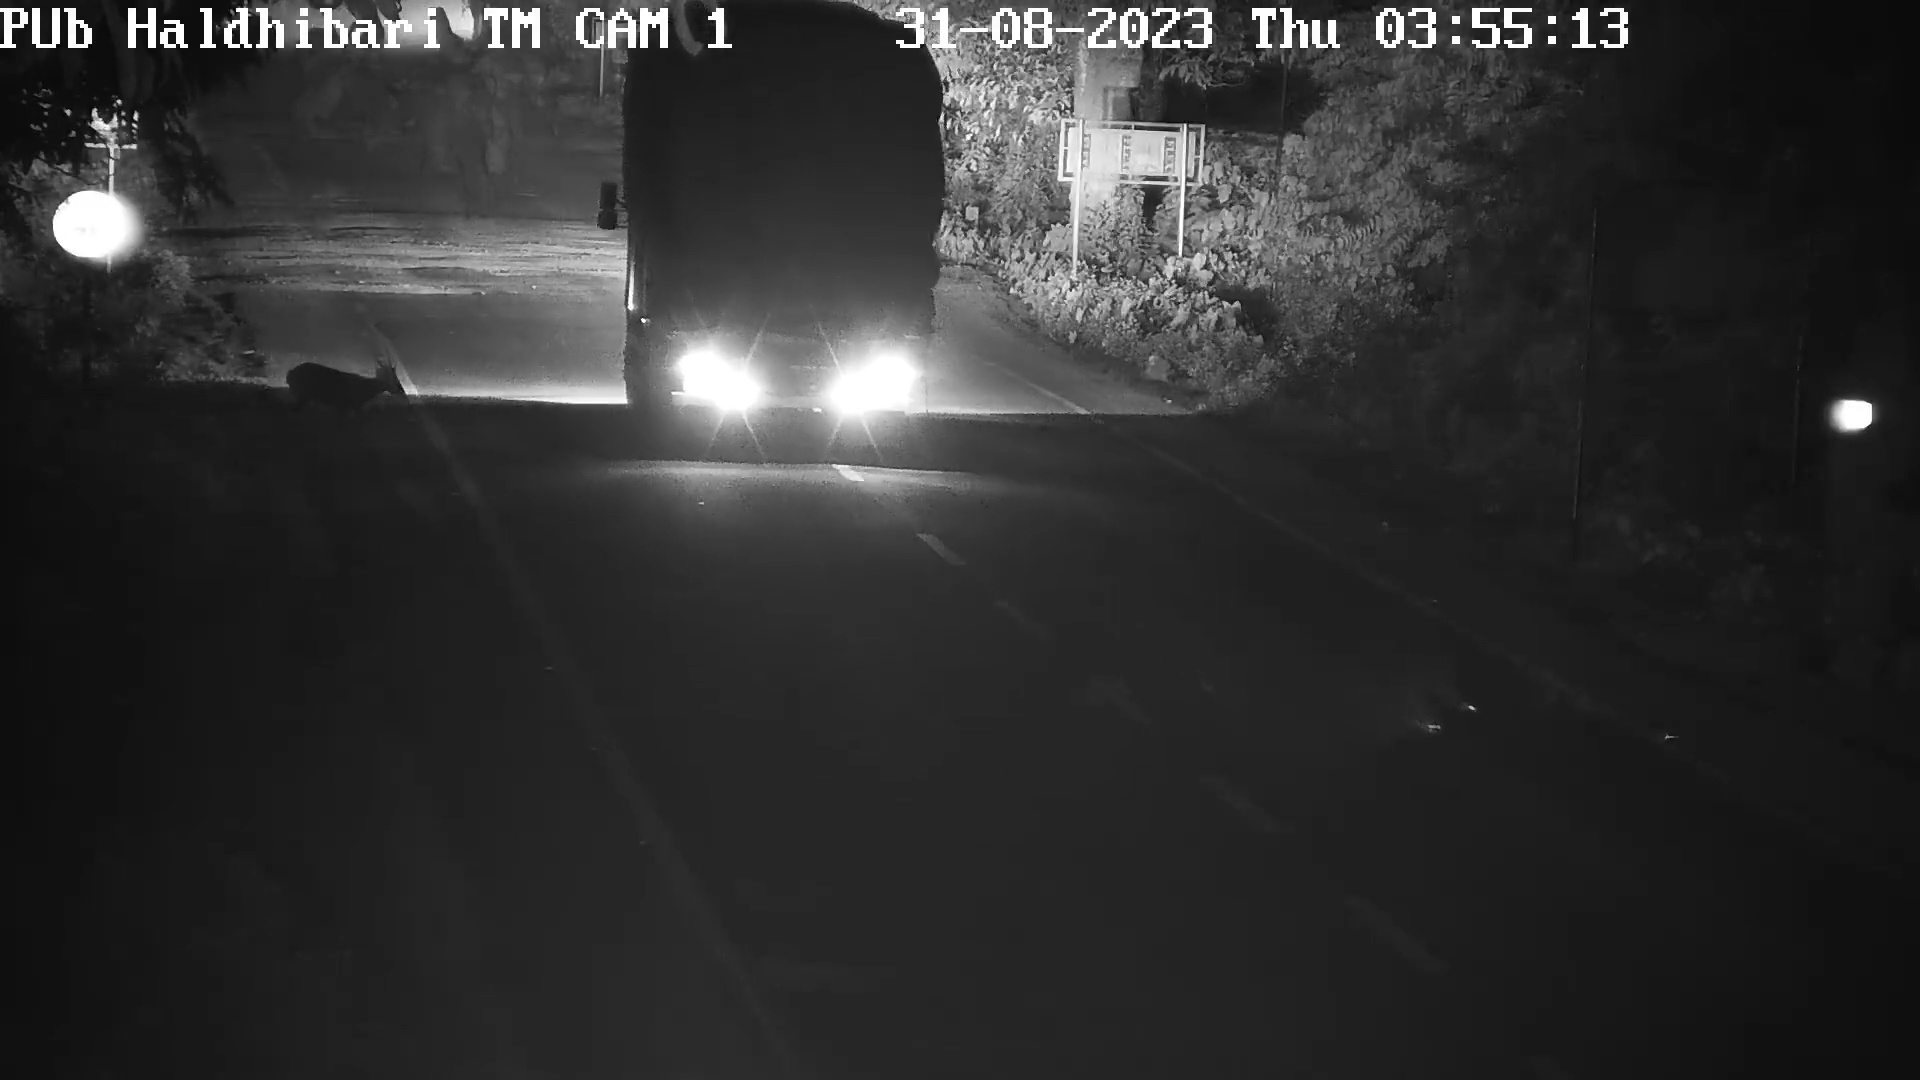deers: (285, 357, 407, 422)
